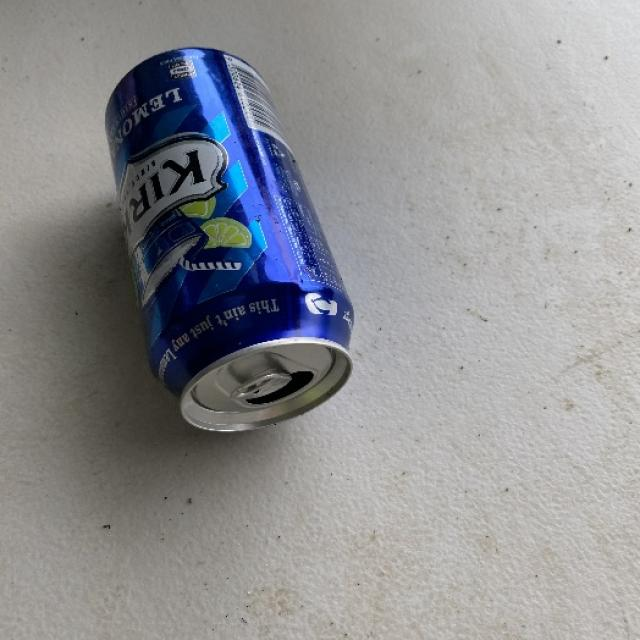metal: (103, 45, 354, 434)
